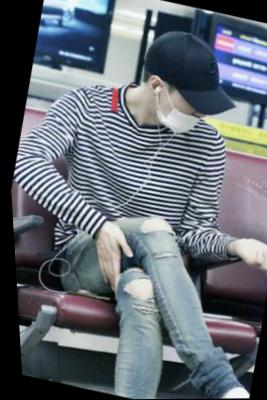WRONG: (160, 86, 211, 141)
